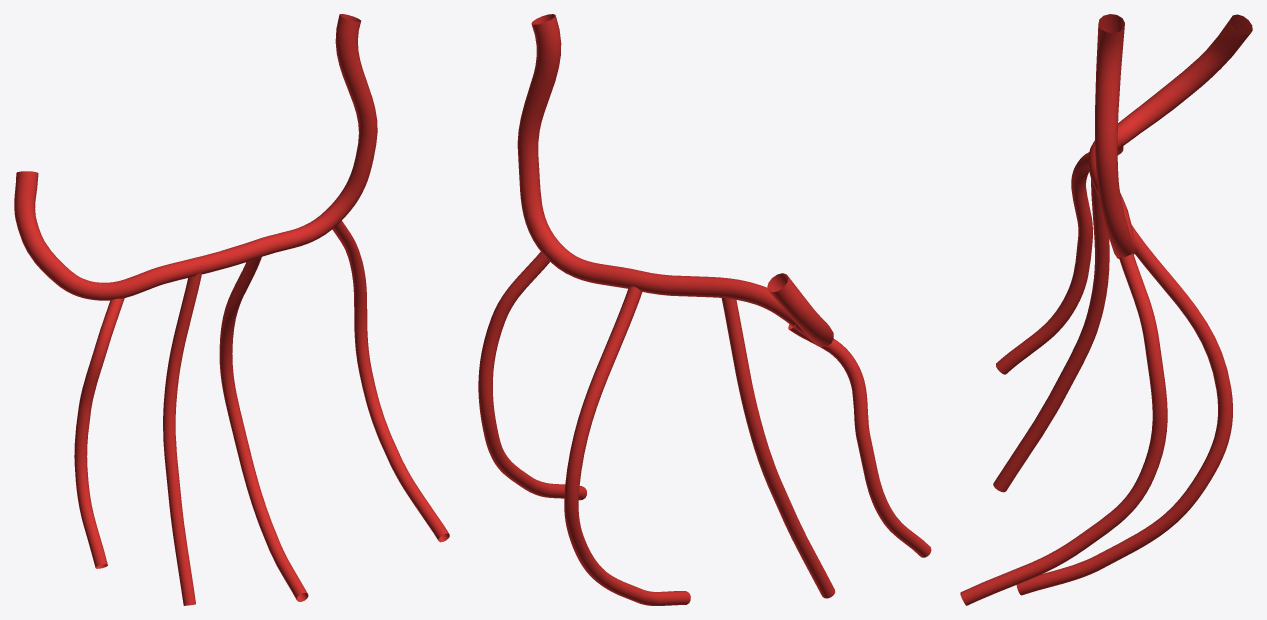
The model's file is circulatorio-deep-palmar-arch-r.glb.
3 renders of one model, left to right at view 1: azimuth 30°, elevation 25°; view 2: azimuth 150°, elevation 25°; view 3: azimuth 270°, elevation 25°, orthographic. The views are drawn at different scales.
Visible parts, largest first — view 1: Palmar metacarpal arteries.r, Deep palmar arch.r; view 2: Palmar metacarpal arteries.r, Deep palmar arch.r; view 3: Palmar metacarpal arteries.r, Deep palmar arch.r.
Part boxes in pixels (<box>): Palmar metacarpal arteries.r: <box>74,220,449,605</box>; Deep palmar arch.r: <box>14,14,377,300</box>; Palmar metacarpal arteries.r: <box>478,251,931,605</box>; Deep palmar arch.r: <box>517,14,833,346</box>; Palmar metacarpal arteries.r: <box>960,143,1232,605</box>; Deep palmar arch.r: <box>1088,14,1252,258</box>.
Size of the model in its own units: 0.0421 by 0.064 by 0.0272.
